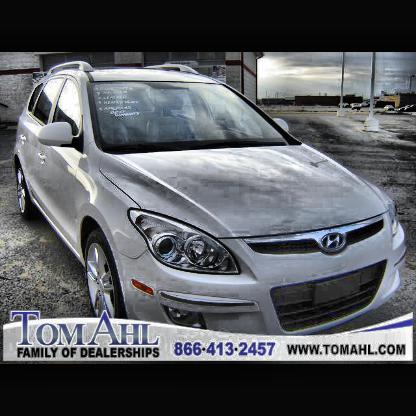Hyundai Elantra Touring Hatchback 2012: (13, 60, 407, 342)
